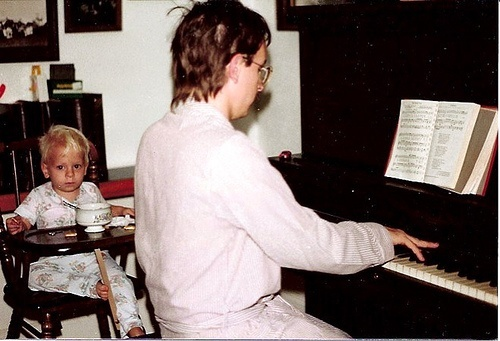head: (165, 1, 275, 124), (37, 118, 94, 196)
person: (132, 0, 428, 337), (9, 126, 132, 234)
